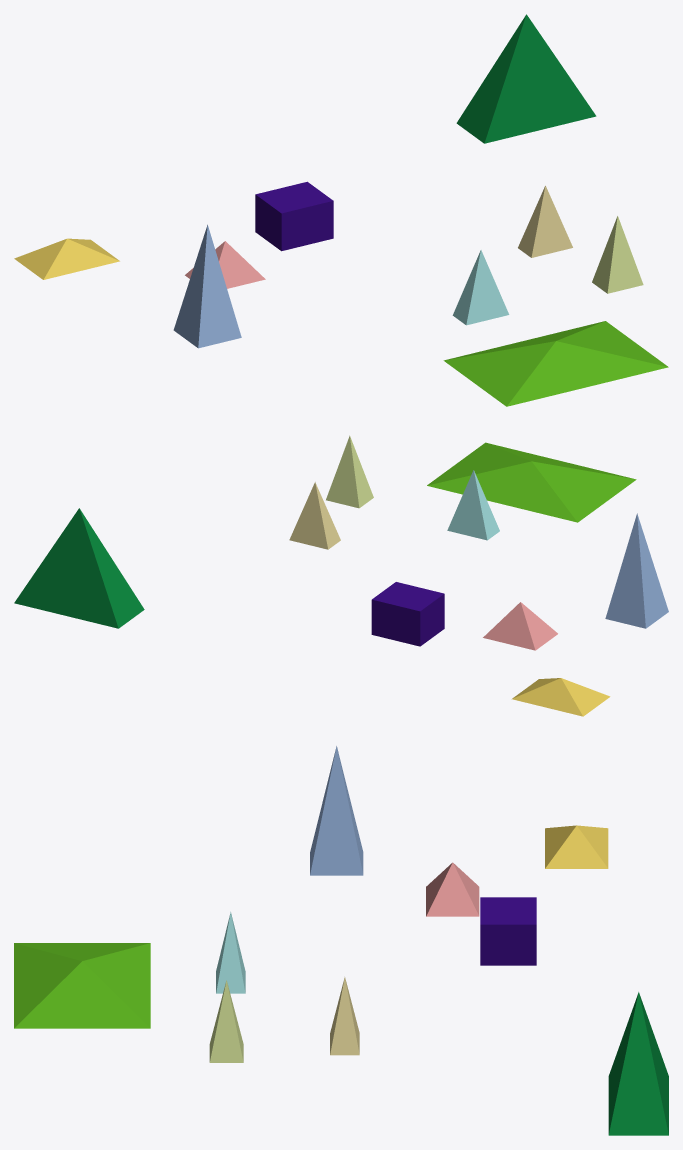
Rendered from simple_005_PointLight_00.dae.
3 renders of one model, top to bottom at view 1: azimuth 30°, elevation 25°; view 2: azimuth 150°, elevation 25°; view 3: azimuth 270°, elevation 25°, orthographic. The views are drawn at different scales.
Visible parts, largest first — view 1: Pyramid05, Pyramid04, Pyramid01, Box01, Pyramid02, Pyramid08, Pyramid07, Pyramid06, Pyramid03; view 2: Pyramid05, Pyramid04, Box01, Pyramid01, Pyramid02, Pyramid03, Pyramid08, Pyramid07, Pyramid06; view 3: Pyramid05, Pyramid04, Pyramid01, Box01, Pyramid02, Pyramid03, Pyramid07, Pyramid06, Pyramid08.
Boxes of the visible parts, <box> form: Pyramid05: <box>443,321,668,406</box>; Pyramid04: <box>456,14,596,143</box>; Pyramid01: <box>173,224,241,348</box>; Box01: <box>255,181,333,251</box>; Pyramid02: <box>14,238,119,279</box>; Pyramid08: <box>452,250,509,325</box>; Pyramid07: <box>592,216,643,293</box>; Pyramid06: <box>518,185,572,257</box>; Pyramid03: <box>185,241,265,288</box>; Pyramid05: <box>427,442,636,522</box>; Pyramid04: <box>14,508,144,628</box>; Box01: <box>371,582,444,646</box>; Pyramid01: <box>605,513,668,628</box>; Pyramid02: <box>511,678,610,716</box>; Pyramid03: <box>483,602,557,650</box>; Pyramid08: <box>447,470,499,540</box>; Pyramid07: <box>326,435,373,508</box>; Pyramid06: <box>289,482,340,549</box>; Pyramid05: <box>14,943,150,1028</box>; Pyramid04: <box>608,992,668,1135</box>; Pyramid01: <box>310,746,363,875</box>; Box01: <box>480,897,536,965</box>; Pyramid02: <box>545,825,608,868</box>; Pyramid03: <box>426,862,479,916</box>; Pyramid07: <box>209,980,243,1062</box>; Pyramid06: <box>330,977,359,1055</box>; Pyramid08: <box>216,911,245,993</box>.
Size of what is drawn, in the model's own units: 4394 by 3958 by 792.
